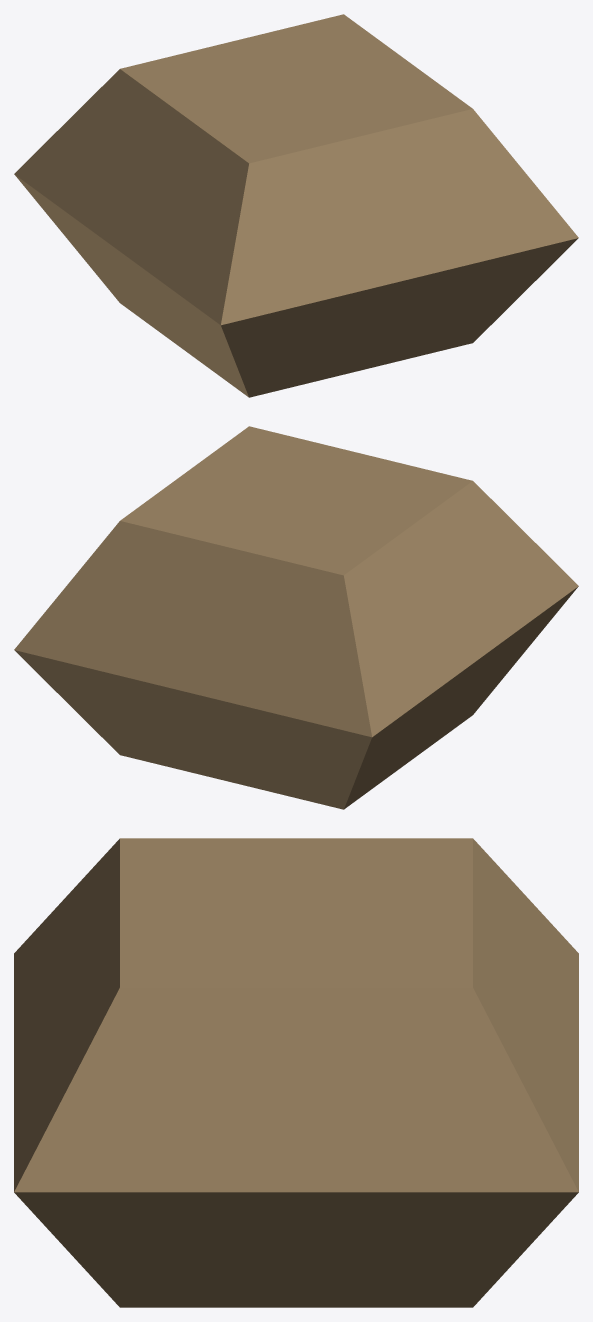
Rendered from KleierbalDoos.fbx.
The picture shows the model from 3 angles, top to bottom: view 1: azimuth 30°, elevation 25°; view 2: azimuth 150°, elevation 25°; view 3: azimuth 270°, elevation 25°; orthographic projection. The views are drawn at different scales.
Parts seen in each view (by area): view 1: Plane.001, Plane; view 2: Plane.001, Plane; view 3: Plane.001, Plane.
Boxes of the visible parts, <box> form: Plane.001: <box>14,14,578,325</box>; Plane: <box>14,174,578,397</box>; Plane.001: <box>14,426,578,737</box>; Plane: <box>14,586,578,809</box>; Plane.001: <box>14,838,578,1192</box>; Plane: <box>14,1192,578,1307</box>.
Bounding box in the file's own units: 160 × 100 × 160.
